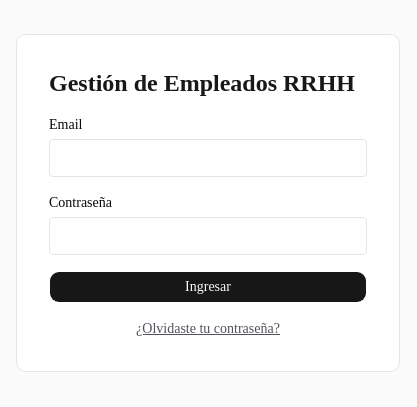
Test: LoginPage › muestra error con credenciales inválidas
In the field labelled "Email": (208, 158) [49,139,367,177], type "rrhh@empresa.com"
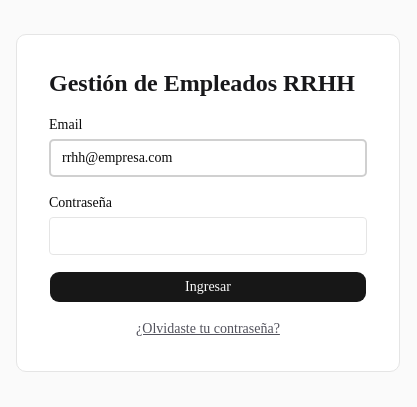
In the password field labelled "Contraseña": (208, 236) [49,217,367,255], type "mala"
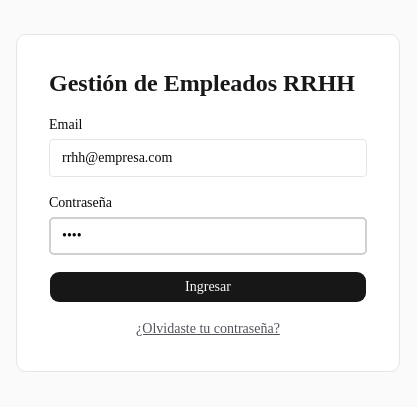
Click the button "Ingresar": (208, 287) [49,271,367,303]
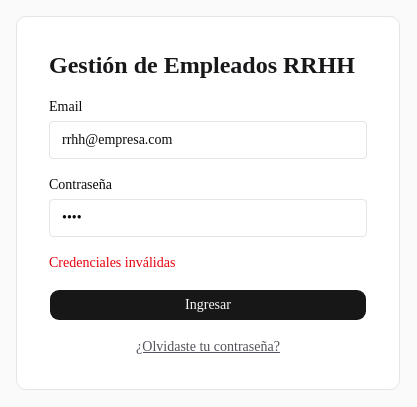
Now the message reads "Credenciales inválidas", box [49,255,175,270]
